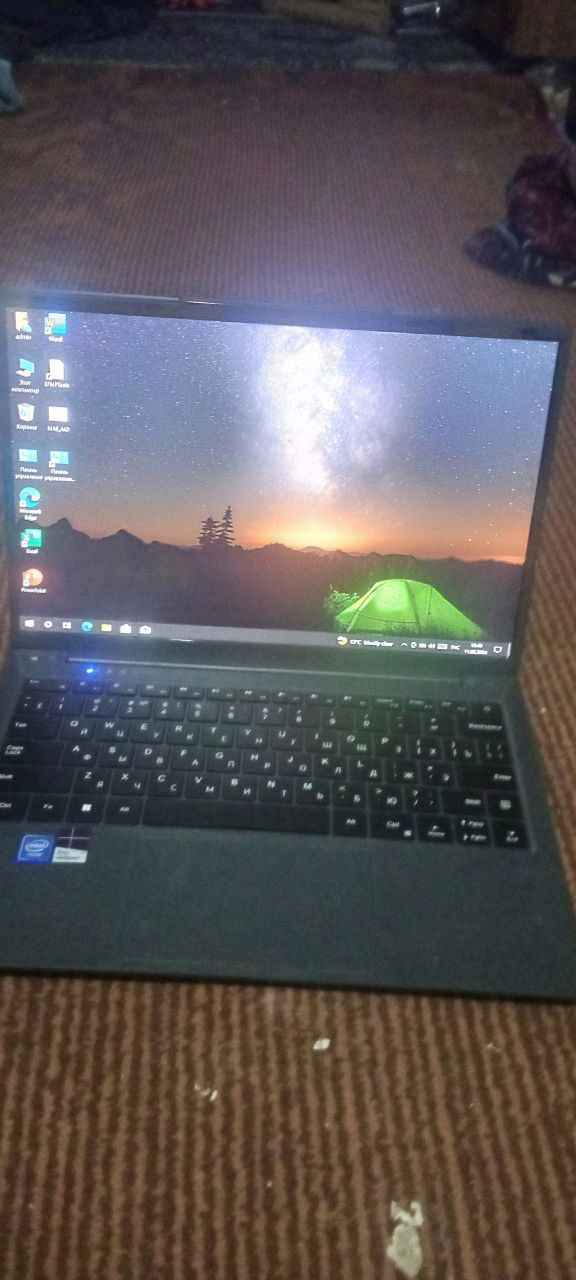laptop: (1, 279, 574, 999)
